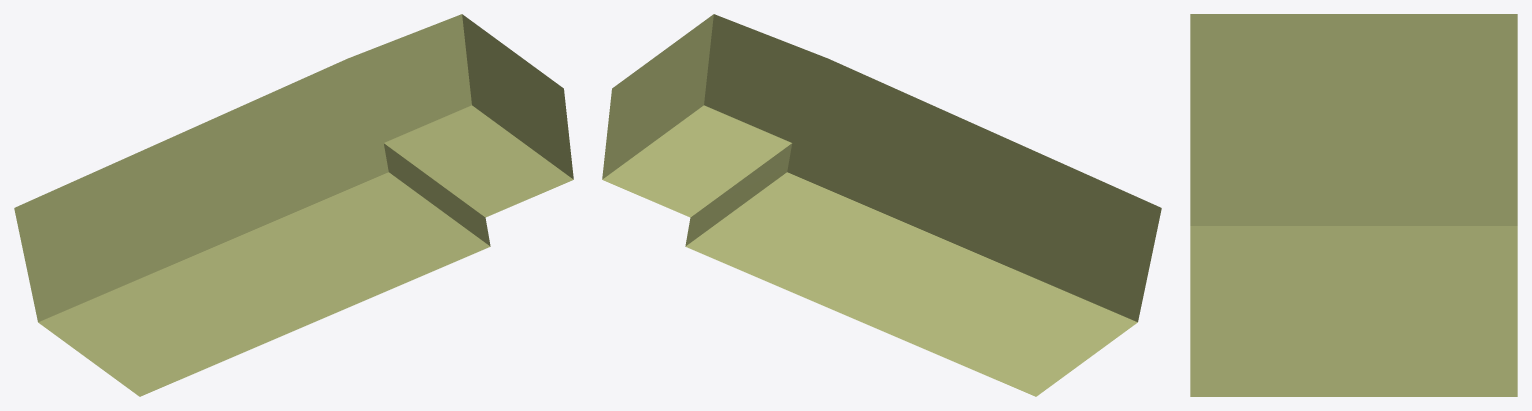
3 views of the same model, side by side, from view 1: azimuth 30°, elevation 25°; view 2: azimuth 150°, elevation 25°; view 3: azimuth 270°, elevation 25° (orthographic). The views are drawn at different scales.
Parts seen in each view (by area): view 1: 0_2_2_0_0_0_2_2_0; view 2: 0_2_2_0_0_0_2_2_0; view 3: 0_2_2_0_0_0_2_2_0.
Part boxes in pixels (x1,y1,x2,y2): 0_2_2_0_0_0_2_2_0: [14, 14, 573, 396]; 0_2_2_0_0_0_2_2_0: [602, 14, 1161, 396]; 0_2_2_0_0_0_2_2_0: [1190, 14, 1517, 396].
Size of the model in its own units: 15.57 by 6.66 by 6.
